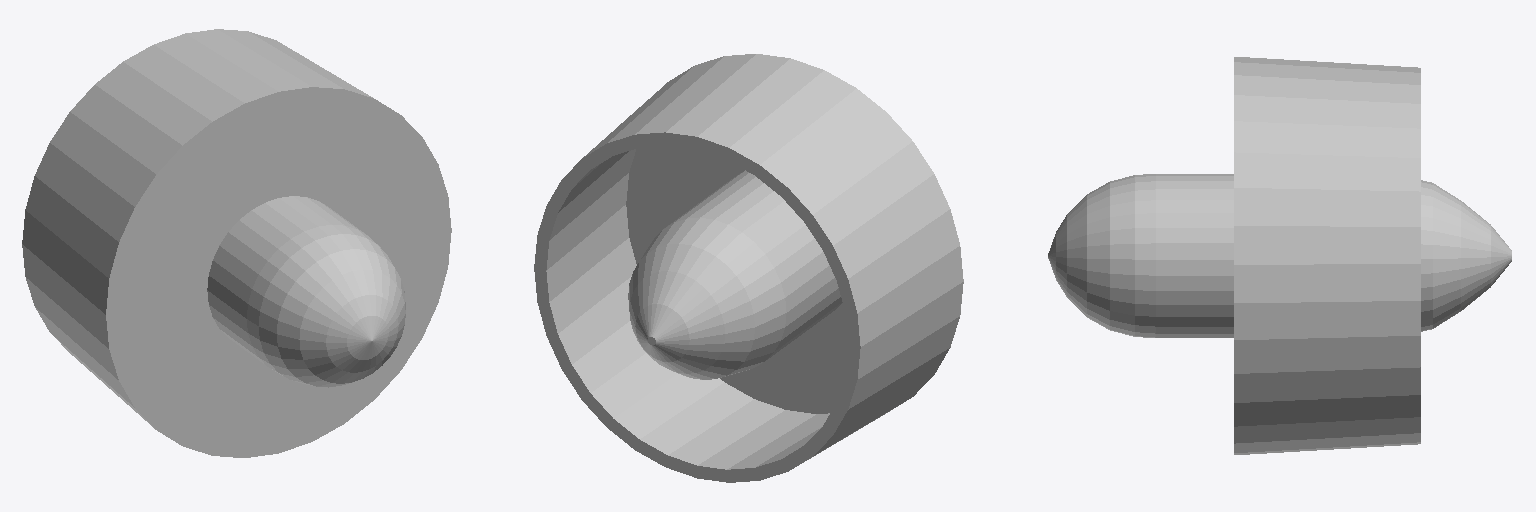
The model's file is duct_up_right_phy.obj.
3 views of the same model, side by side, from view 1: azimuth 30°, elevation 25°; view 2: azimuth 150°, elevation 25°; view 3: azimuth 270°, elevation 25° (orthographic).
Visible parts, largest first — view 1: duct_up_right_phy; view 2: duct_up_right_phy; view 3: duct_up_right_phy.
Part boxes in pixels (left/top/right/bottom): duct_up_right_phy: left=22, top=29, right=451, bottom=457; duct_up_right_phy: left=534, top=54, right=963, bottom=482; duct_up_right_phy: left=1048, top=57, right=1511, bottom=454.
Size of the model in its own units: 0.0967 by 0.0967 by 0.1126.